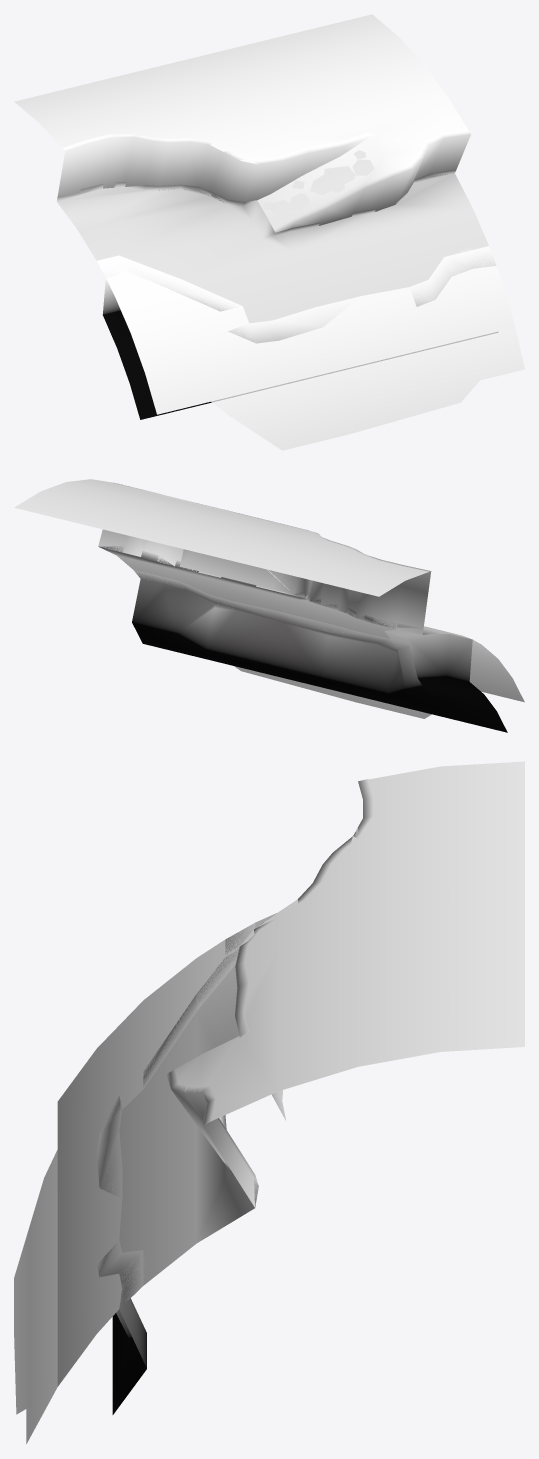
File: grd_Msw_s_S_1.dae
3 renders of one model, top to bottom at view 1: azimuth 30°, elevation 25°; view 2: azimuth 150°, elevation 25°; view 3: azimuth 270°, elevation 25°, orthographic. The views are drawn at different scales.
Visible parts, largest first — view 1: grd_Msw_s_S_1; view 2: grd_Msw_s_S_1; view 3: grd_Msw_s_S_1.
Boxes of the visible parts, x1,y1,x2,y2 form: grd_Msw_s_S_1: (14, 14, 524, 450); grd_Msw_s_S_1: (14, 479, 524, 732); grd_Msw_s_S_1: (14, 761, 524, 1443).
Bounding box in the file's own units: 512 × 357 × 387.
7 materials, 1 textured.
